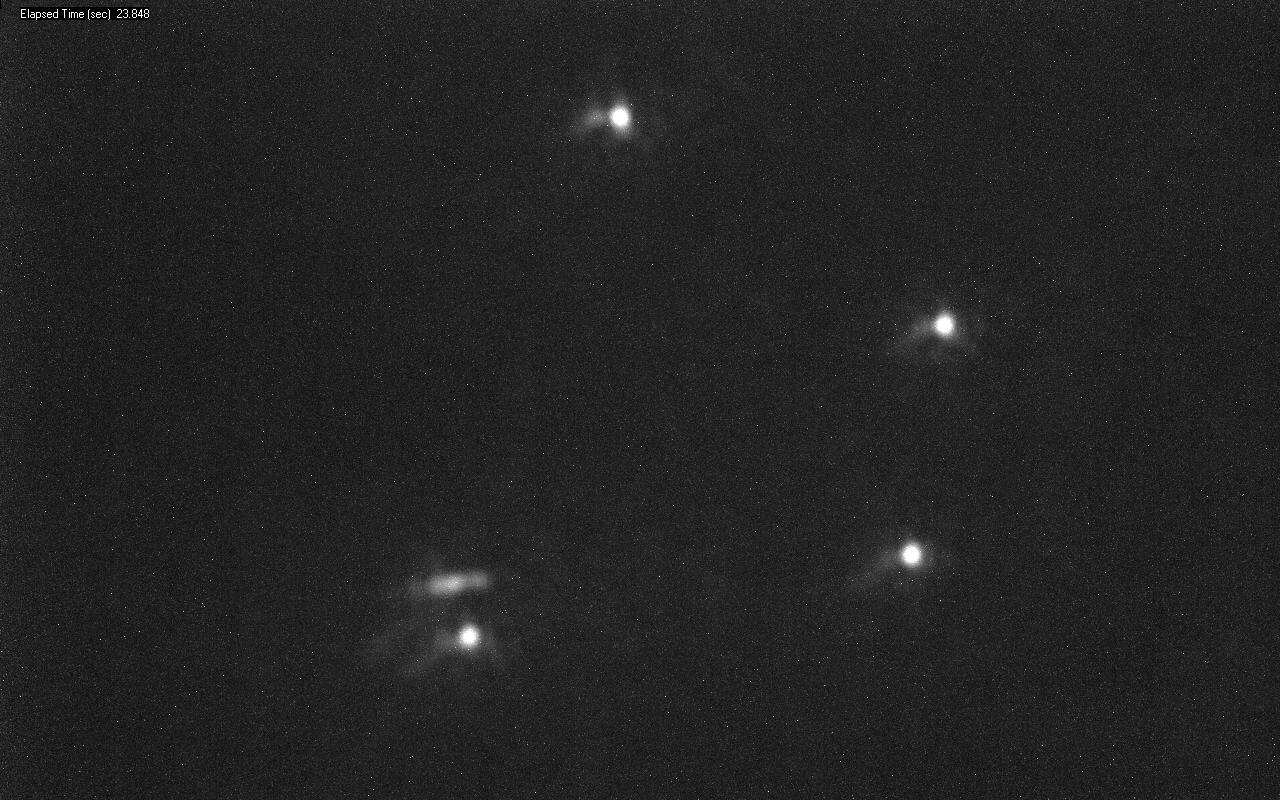Bead: (931, 313, 954, 340), (457, 625, 482, 649), (900, 542, 922, 567), (609, 105, 631, 129)
